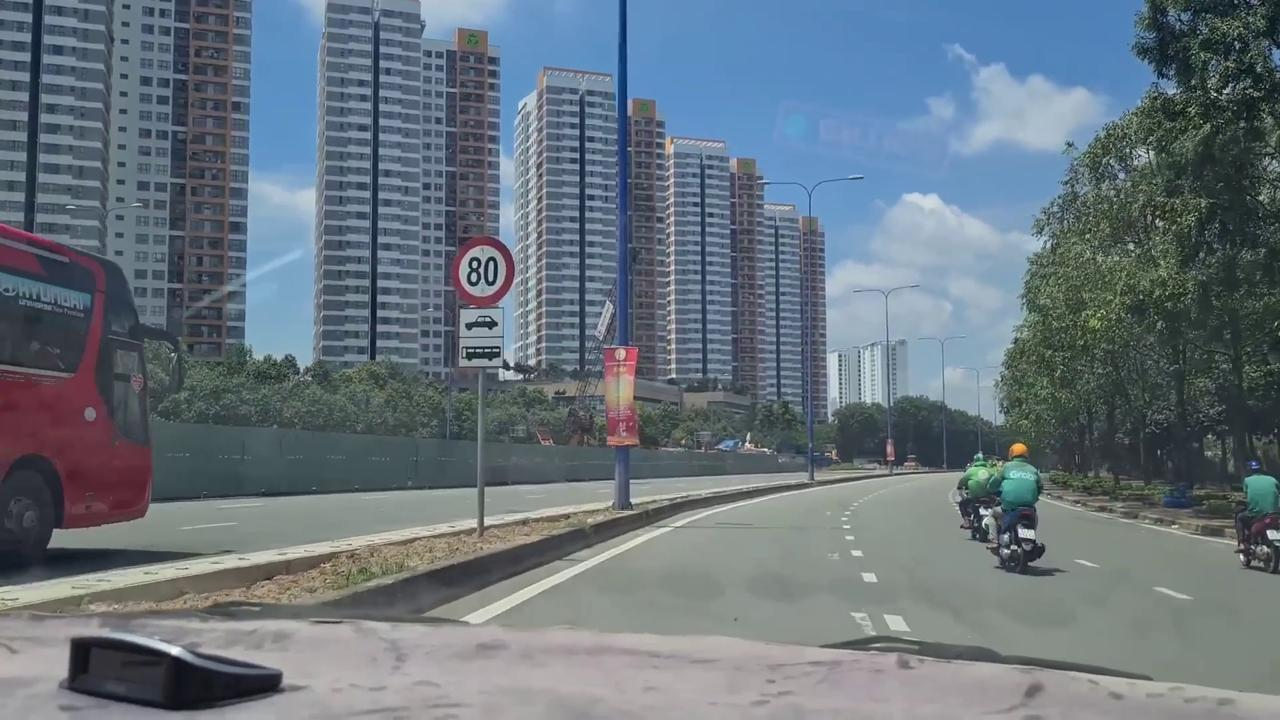Biển phụ: (456, 308, 505, 370)
Giới hạn tốc độ 80Km/h: (452, 229, 520, 308)
